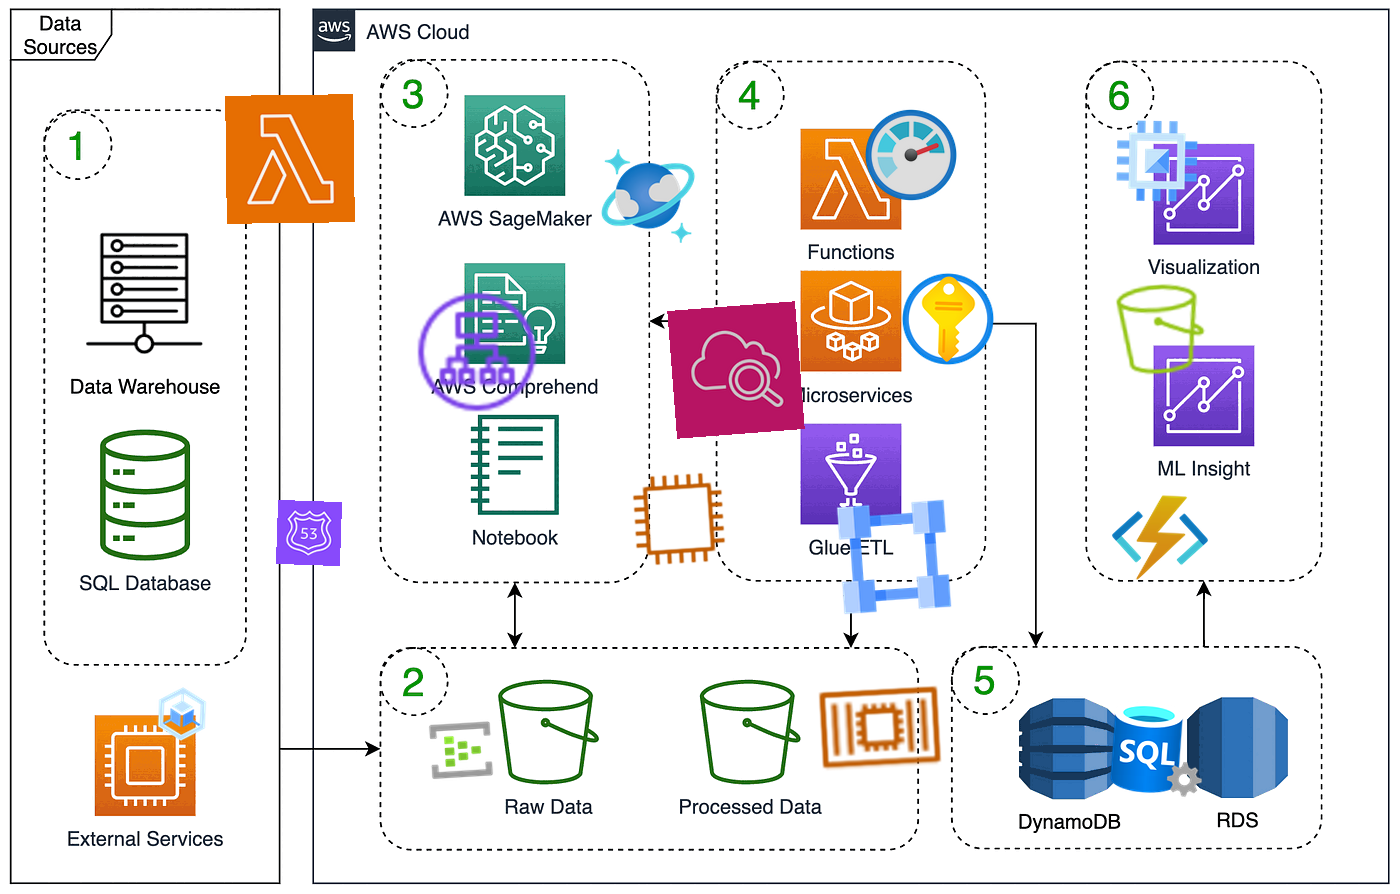aws_amazon_cloudwatch: (667, 301, 805, 439)
aws_amazon_route_53: (276, 499, 343, 567)
aws_ec2_instance: (627, 467, 731, 572)
aws_elastic_container_service_container_2: (812, 659, 948, 795)
aws_elastic_load_balancing_application_load_balancer: (412, 287, 542, 417)
aws_lambda: (224, 94, 355, 224)
aws_simple_storage_service_bucket: (1109, 277, 1213, 381)
azure_cosmos_db: (597, 145, 699, 247)
azure_event_hubs: (427, 716, 495, 784)
azure_function_apps: (1109, 487, 1211, 589)
azure_key_vaults: (898, 269, 998, 369)
azure_monitor: (862, 106, 960, 204)
azure_sql_server: (1106, 697, 1210, 801)
gcp_compute_engine: (1108, 112, 1206, 210)
gcp_google_kubernetes_engine: (148, 680, 216, 748)
gcp_virtual_private_cloud: (824, 488, 963, 626)
